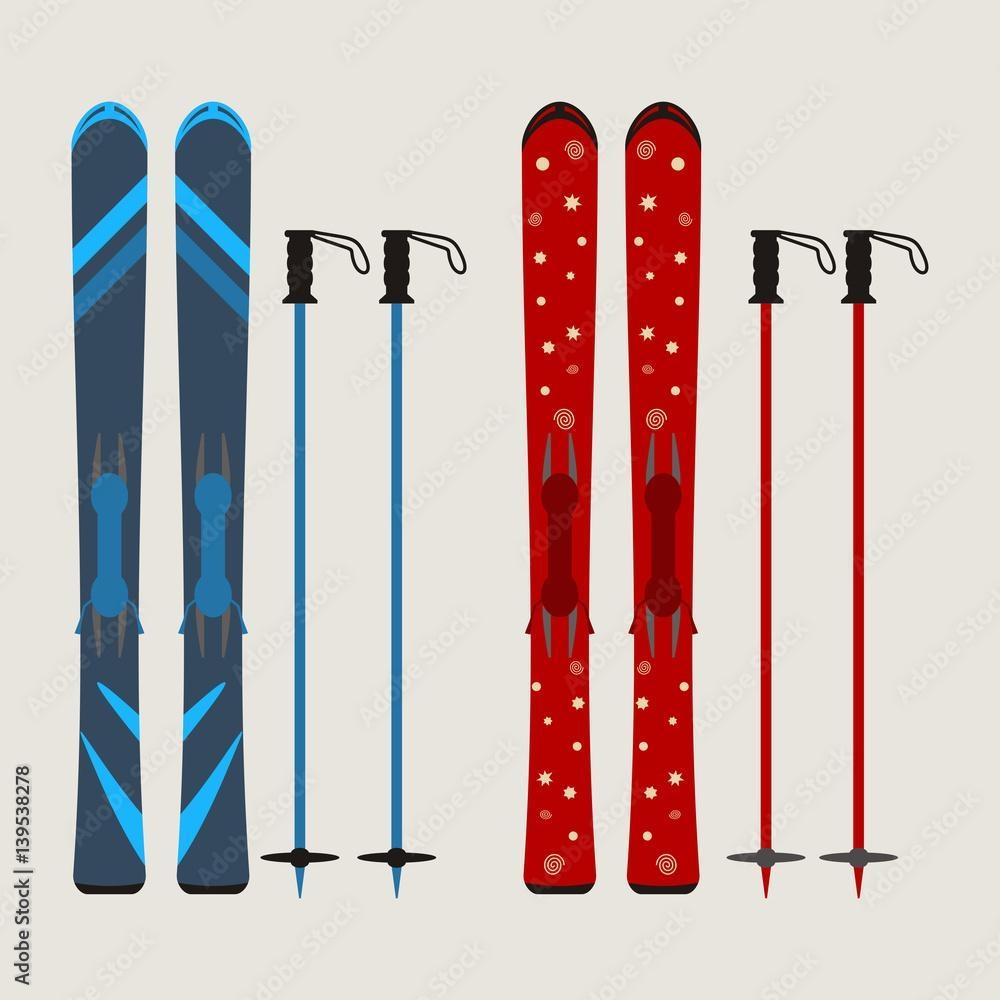Skis: (478, 57, 916, 898)
